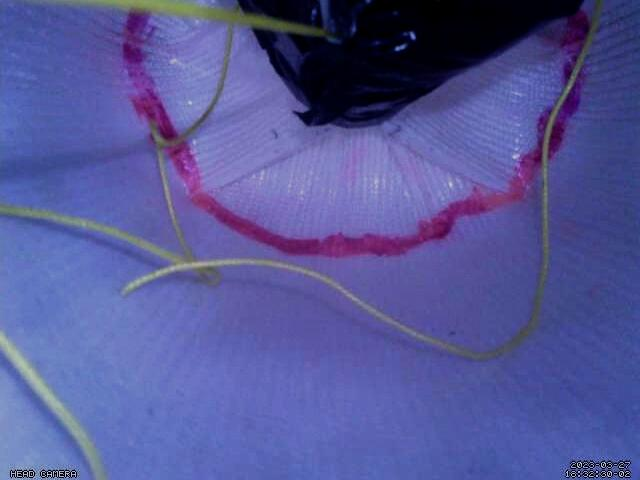head: (122, 9, 591, 259)
